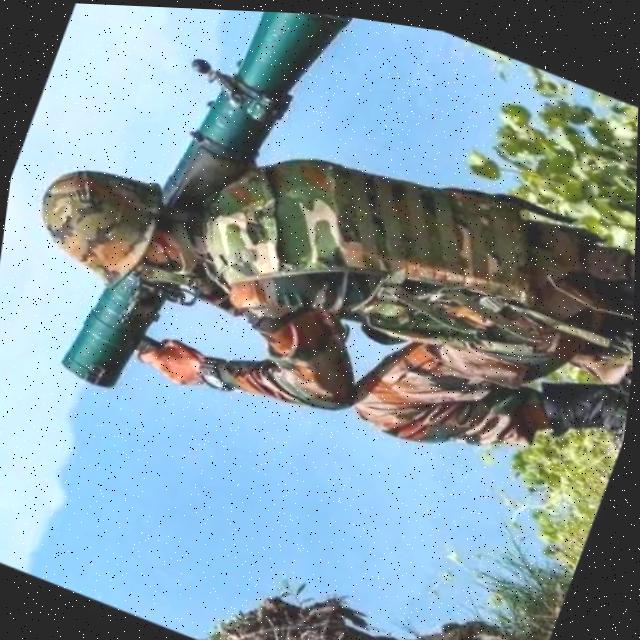rocket: (38, 2, 356, 438)
